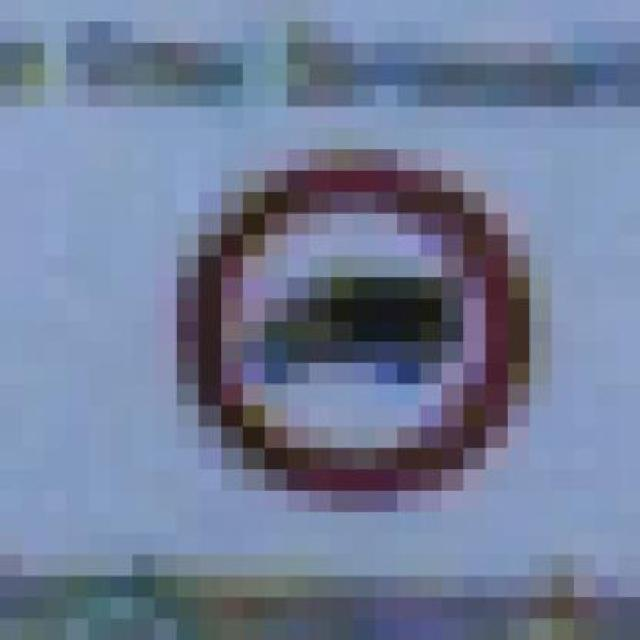Truck traffic is prohibited: (132, 149, 552, 534)
